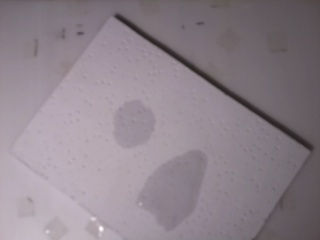Water_detected: (152, 156, 203, 215), (116, 102, 149, 139)
